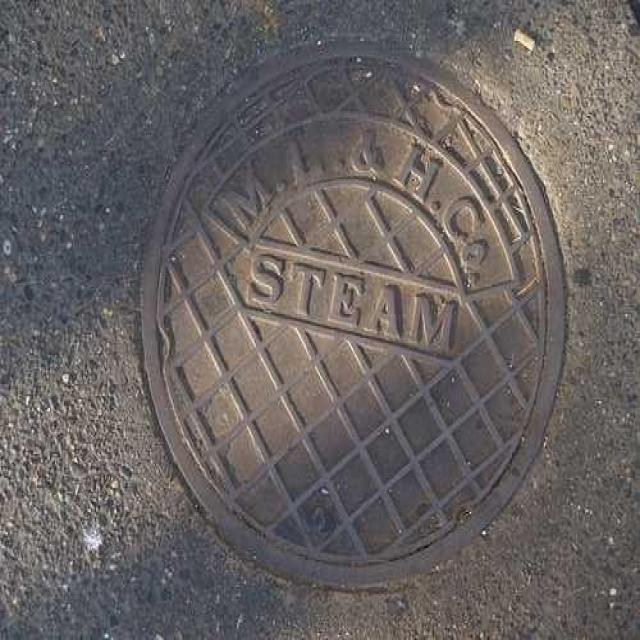manhole: (142, 45, 565, 587)
